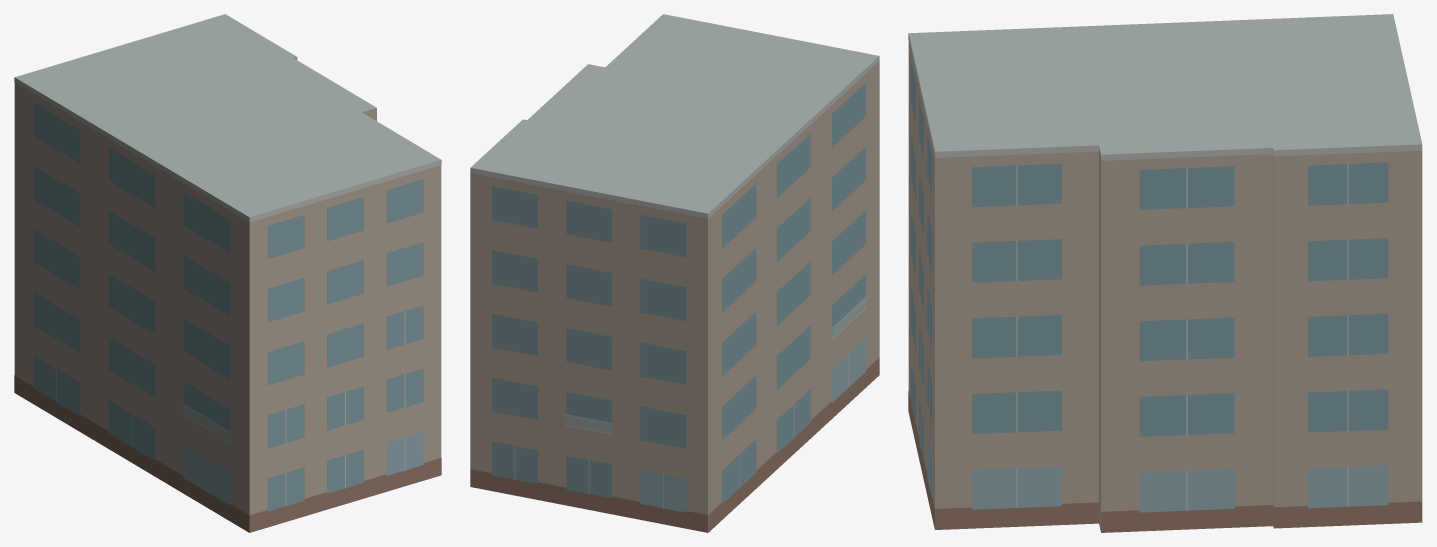
The model's file is survey-upis-32616298.glb.
3 renders of one model, left to right at view 1: azimuth 30°, elevation 25°; view 2: azimuth 150°, elevation 25°; view 3: azimuth 270°, elevation 25°, orthographic. The views are drawn at different scales.
Parts seen in each view (by area): view 1: survey-upis-32616298.tmp; view 2: survey-upis-32616298.tmp; view 3: survey-upis-32616298.tmp.
Part boxes in pixels (<box>): survey-upis-32616298.tmp: <box>14,14,441,532</box>; survey-upis-32616298.tmp: <box>470,14,879,532</box>; survey-upis-32616298.tmp: <box>908,14,1422,532</box>.
Size of the model in its own units: 11.98 by 15 by 18.48.
